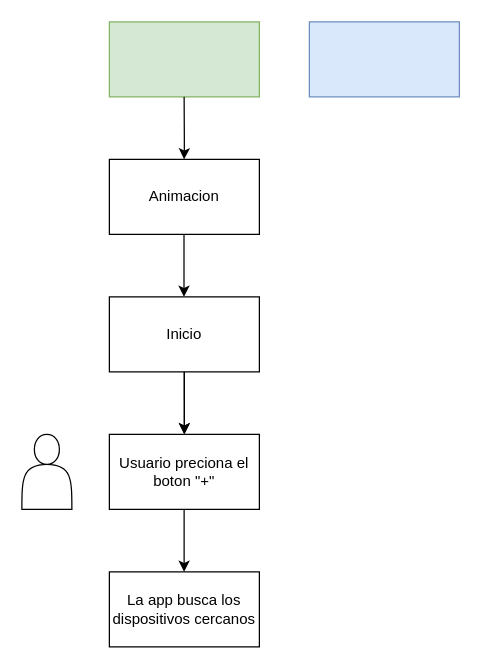
The diagram is 481 pixels wide and 669 high, and some of its shapes have lost their labels. The shapes that lost their labels are listed below. From the top down, each one's centre as x and y in pixels, then its label:
[183,59]: TANKOLD APP
[383,59]: ESP32
